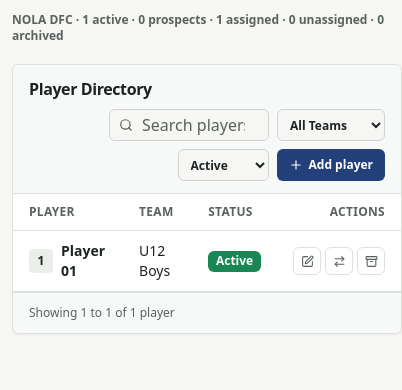
it: ClubPlayersView › says so plainly when nothing matches
Type "zzz" into the search field labelled "Search players...". click: {"x": 189, "y": 125}
box: x1=109 y1=109 x2=269 y2=141
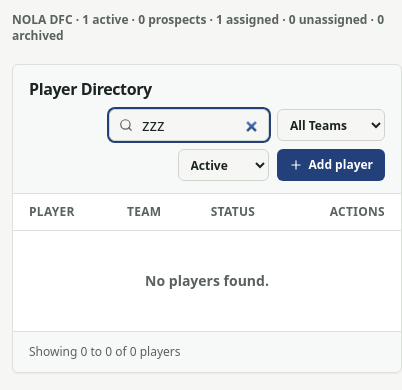
Expected: the text "No players found." is shown, x1=13 y1=230 x2=401 y2=331
